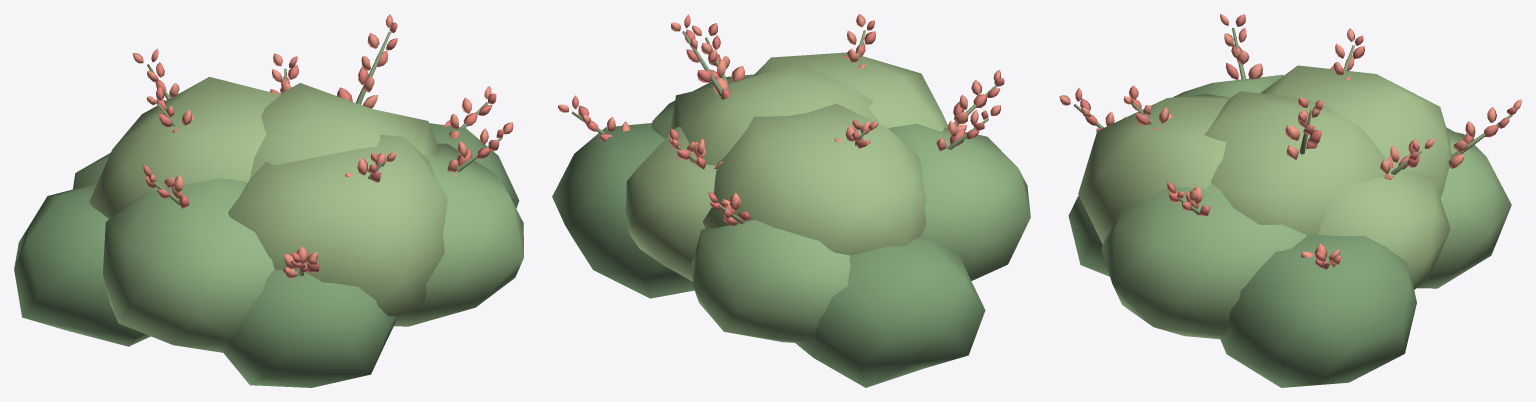
File: ceibo_bush_9.glb
3 renders of one model, left to right at view 1: azimuth 30°, elevation 25°; view 2: azimuth 150°, elevation 25°; view 3: azimuth 270°, elevation 25°, orthographic. The views are drawn at different scales.
Parts seen in each view (by area): view 1: CeiboLeafL, CeiboLeafM, CeiboLeafD, CeiboPetal, CeiboFlower, CeiboWood; view 2: CeiboLeafL, CeiboLeafD, CeiboLeafM, CeiboPetal, CeiboFlower, CeiboWood; view 3: CeiboLeafL, CeiboLeafM, CeiboLeafD, CeiboPetal, CeiboFlower, CeiboWood.
Boxes of the visible parts, x1=… form: CeiboLeafL: x1=89, y1=77, x2=447, y2=317; CeiboLeafM: x1=73, y1=143, x2=523, y2=352; CeiboLeafD: x1=14, y1=123, x2=519, y2=387; CeiboPetal: x1=132, y1=14, x2=513, y2=280; CeiboFlower: x1=143, y1=22, x2=503, y2=273; CeiboWood: x1=147, y1=31, x2=502, y2=276; CeiboLeafL: x1=625, y1=52, x2=948, y2=281; CeiboLeafD: x1=552, y1=123, x2=985, y2=387; CeiboLeafM: x1=652, y1=74, x2=1030, y2=342; CeiboPetal: x1=558, y1=14, x2=1000, y2=226; CeiboFlower: x1=572, y1=14, x2=1004, y2=221; CeiboWood: x1=571, y1=30, x2=996, y2=223; CeiboLeafL: x1=1078, y1=65, x2=1452, y2=289; CeiboLeafM: x1=1101, y1=74, x2=1511, y2=339; CeiboLeafD: x1=1068, y1=127, x2=1453, y2=387; CeiboPetal: x1=1059, y1=14, x2=1521, y2=264; CeiboFlower: x1=1075, y1=14, x2=1516, y2=269; CeiboWood: x1=1073, y1=27, x2=1512, y2=266.
Size of the model in its own units: 1.98 by 1.16 by 1.79.
